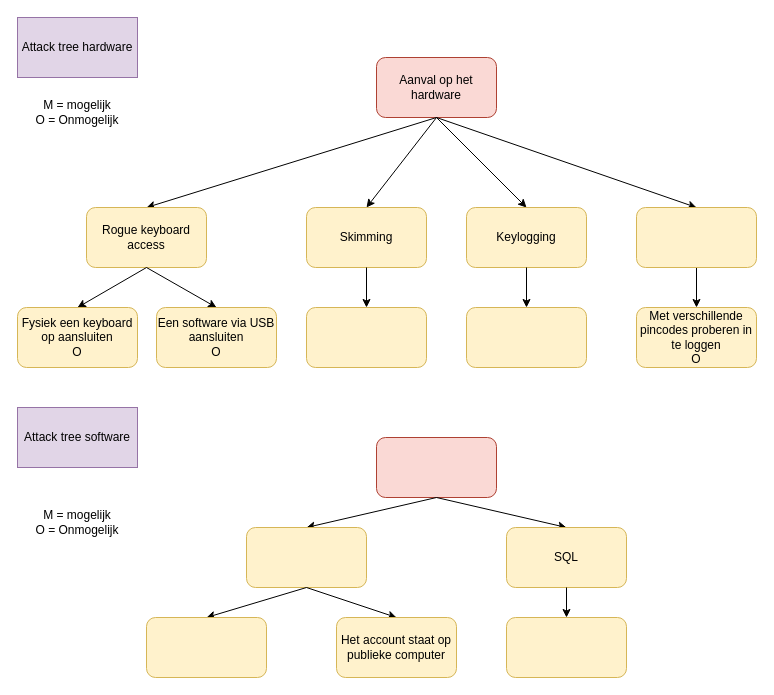
Some shapes in this 774 by 695 pixel diagram are drawn without their labels. Here are the shapes that lost their labels. From the top down, the centre of each, then its label:
the point at 696,237: Brute force
the point at 366,337: Kopieert gegevens van de pinpas M
the point at 526,337: Kopieert gegevens van de pincode M
the point at 436,467: Aanval op het software
the point at 306,557: Dataverbinding
the point at 566,647: SQL - injectie M
